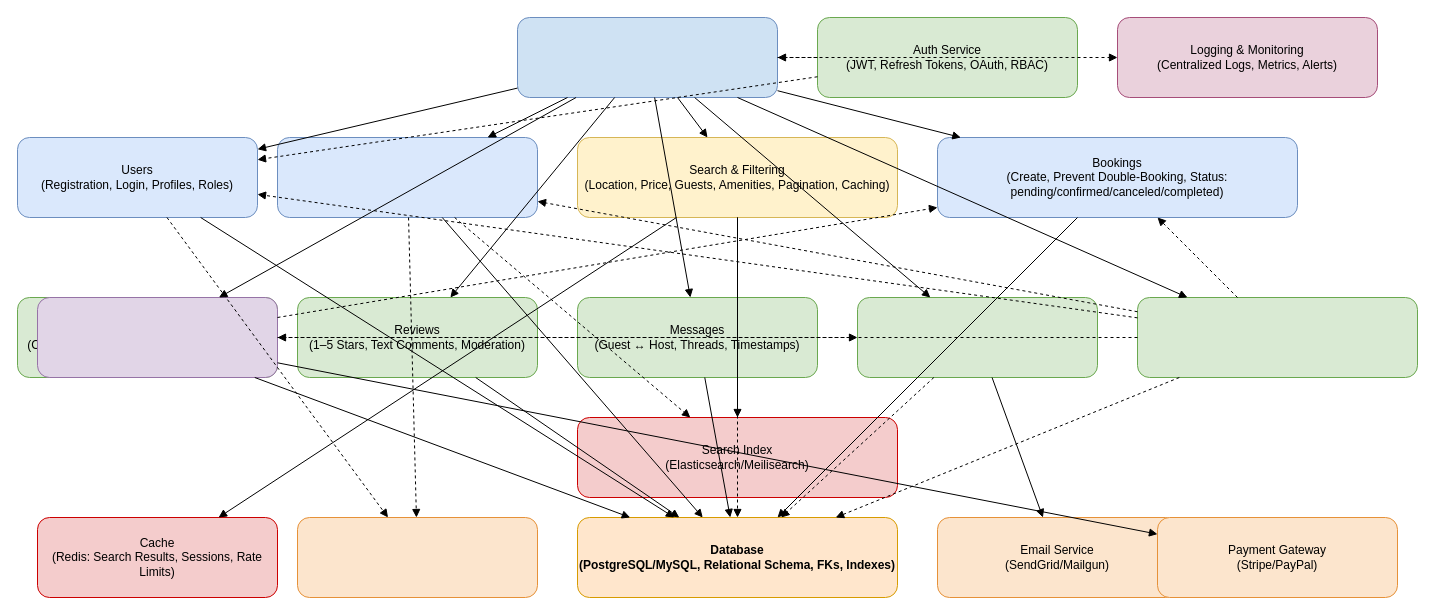
The diagram is 1435 pixels wide and 615 high, and some of its shapes have lost their labels. The shapes that lost their labels are listed below. From the top down, each one's centre as x and y in pixels, then its label:
the point at 647,57: API Gateway (REST/GraphQL, Rate Limiting, Validation)
the point at 407,177: Properties (Listings, Images, Amenities, Availability)
the point at 157,337: Scheduler / Jobs (Reminders, Payouts, Cleanup)
the point at 977,337: Notifications (Email, In-App, Templates)
the point at 1277,337: Admin Dashboard (Users, Properties, Bookings, Payments, Moderation)
the point at 417,557: File Storage (Property Images, Profile Photos)
